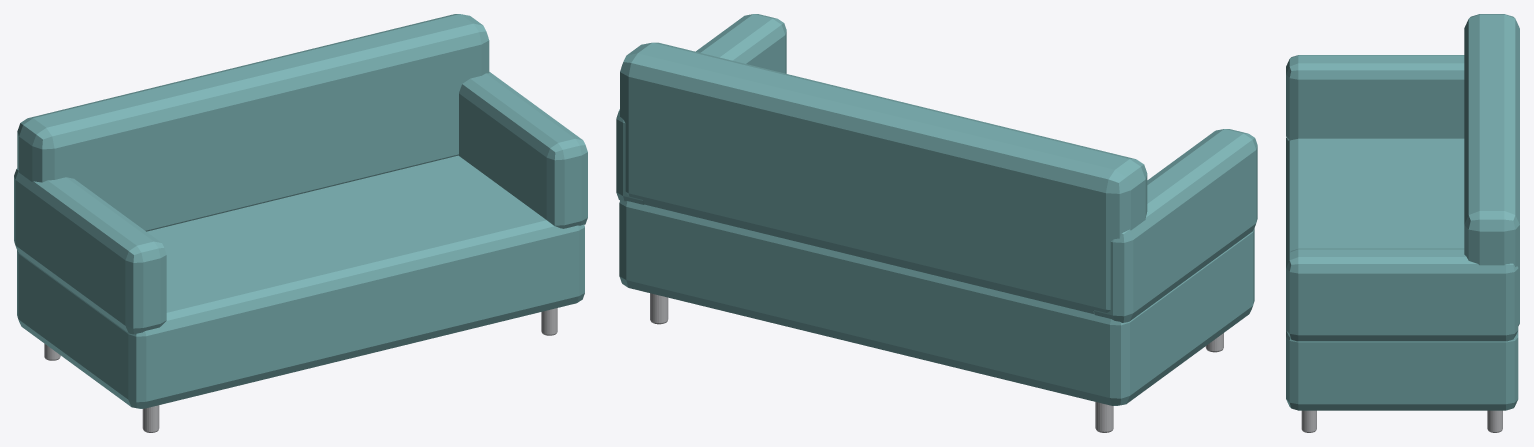
The model's file is break_sofa.fbx.
3 views of the same model, side by side, from view 1: azimuth 30°, elevation 25°; view 2: azimuth 150°, elevation 25°; view 3: azimuth 270°, elevation 25° (orthographic). The views are drawn at different scales.
Visible parts, largest first — view 1: break_sofa; view 2: break_sofa; view 3: break_sofa.
Boxes of the visible parts, <box> form: break_sofa: <box>14,14,587,432</box>; break_sofa: <box>616,14,1257,432</box>; break_sofa: <box>1286,14,1519,432</box>.
Bounding box in the file's own units: 1.62 × 0.805 × 0.755.
